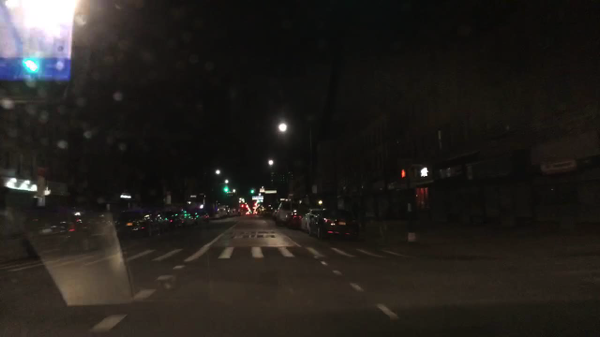car: (22, 204, 118, 257), (309, 210, 361, 242), (114, 209, 155, 238), (273, 201, 298, 225), (300, 209, 325, 232), (147, 210, 170, 232), (287, 206, 309, 229), (176, 209, 199, 228), (164, 211, 184, 230), (191, 207, 210, 223), (218, 205, 230, 217), (258, 203, 270, 215), (264, 206, 276, 218), (208, 212, 220, 219), (231, 207, 238, 216), (237, 210, 243, 216), (245, 210, 250, 216), (252, 210, 259, 214)
person: (352, 203, 361, 217)
traffic light: (417, 165, 431, 183), (400, 166, 408, 184), (224, 183, 229, 193), (250, 184, 255, 193), (253, 201, 257, 207), (241, 202, 244, 209)
traffic sign: (263, 189, 277, 195), (311, 183, 318, 194)
